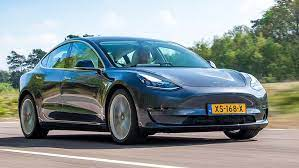licence: (206, 102, 246, 114)
